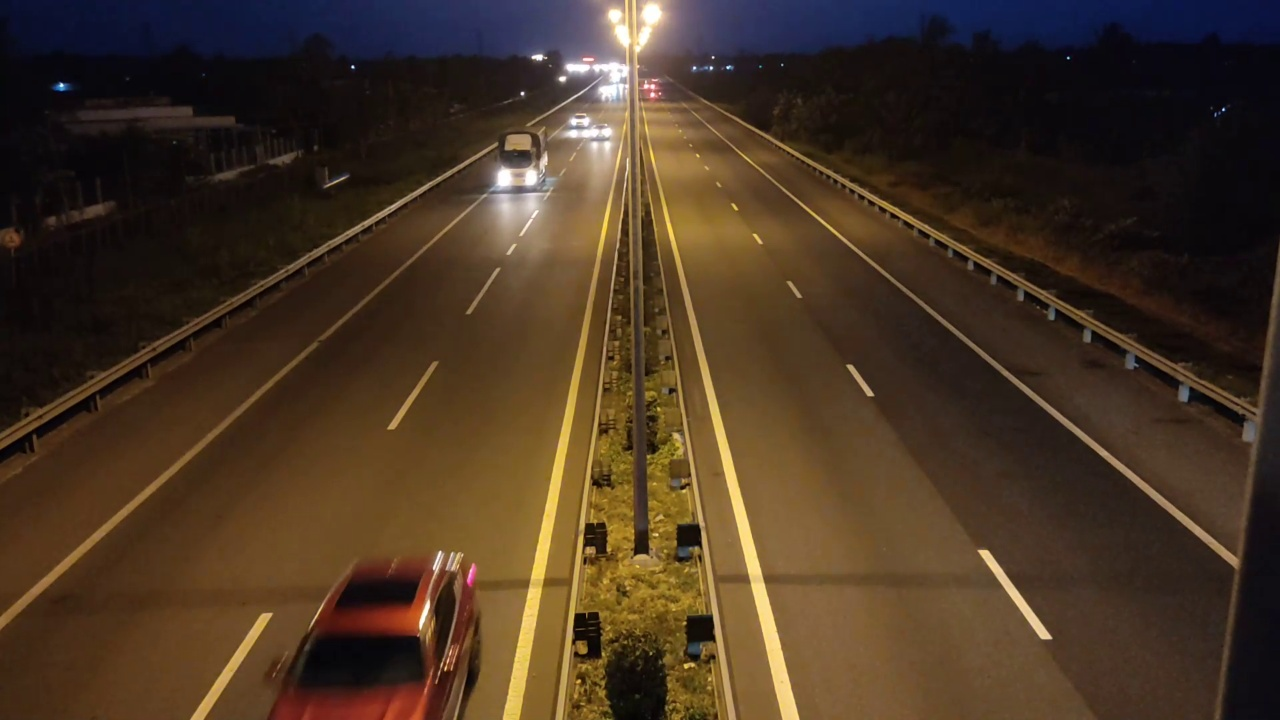car: (264, 550, 483, 719)
truck: (489, 123, 551, 197)
